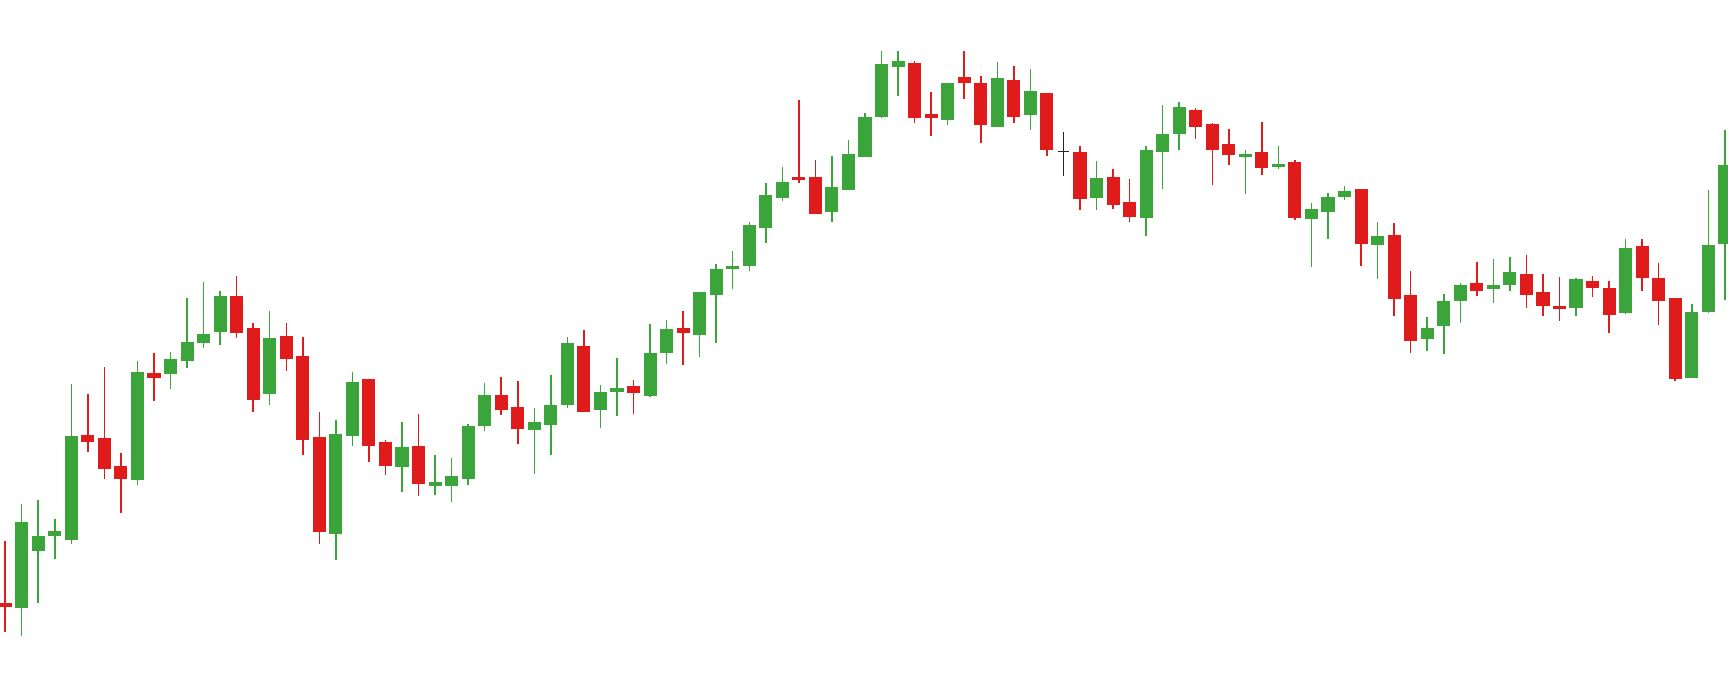buy: (115, 359, 344, 560), (1418, 267, 1700, 387)
